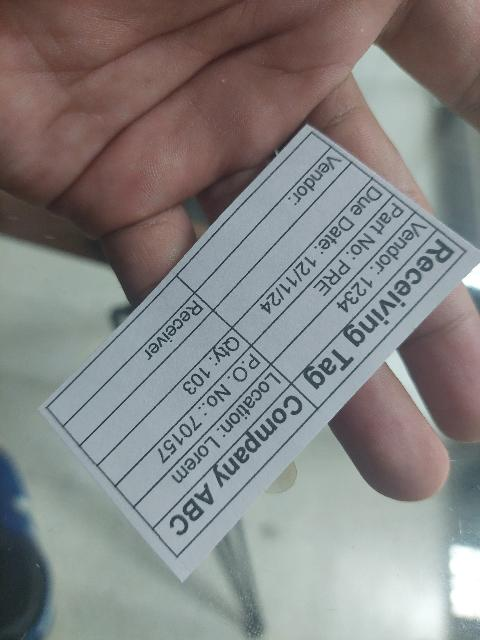PO no: (114, 345, 268, 507)
part no: (252, 196, 416, 364)
qty: (97, 326, 251, 486)
tags: (36, 122, 480, 584)
